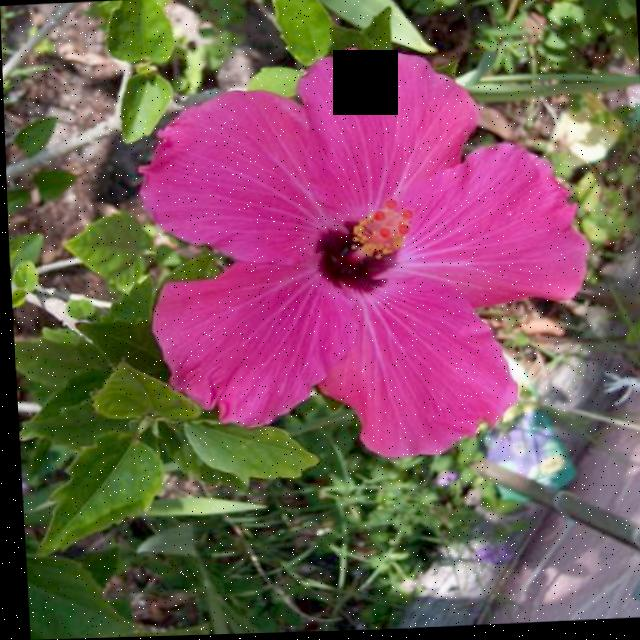hibiscus: (19, 0, 629, 590)
